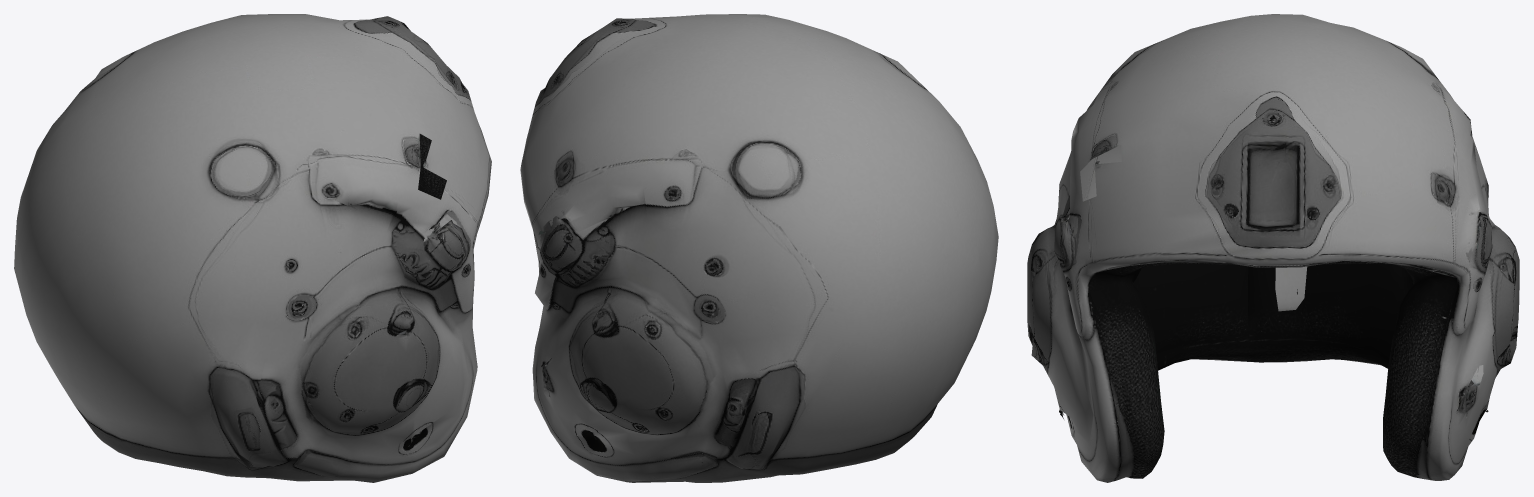
Rendered from tripo_convert_4faf629f-871c-4389-8765-fe4d324c13b4.fbx.
3 renders of one model, left to right at view 1: azimuth 30°, elevation 25°; view 2: azimuth 150°, elevation 25°; view 3: azimuth 270°, elevation 25°, orthographic. The views are drawn at different scales.
Parts seen in each view (by area): view 1: tripo_node_4faf629f; view 2: tripo_node_4faf629f; view 3: tripo_node_4faf629f.
Boxes of the visible parts, x1,y1,x2,y2 form: tripo_node_4faf629f: (14,14,491,482); tripo_node_4faf629f: (520,14,998,482); tripo_node_4faf629f: (1027,14,1519,482).
Bounding box in the file's own units: 0.973 × 0.882 × 0.9726.
1 material, 1 textured.
